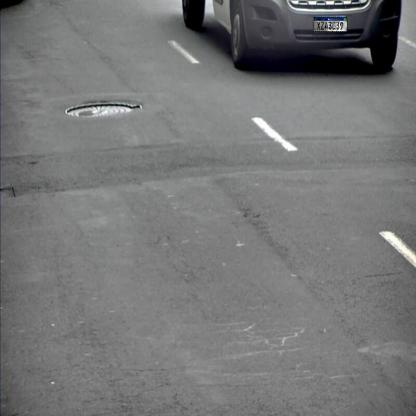PlacaM: (314, 17, 348, 32)
